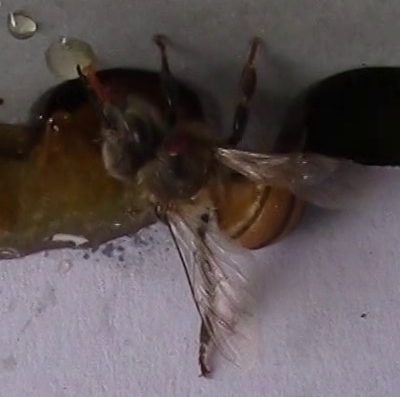Varroa destructor: (163, 131, 196, 157)
